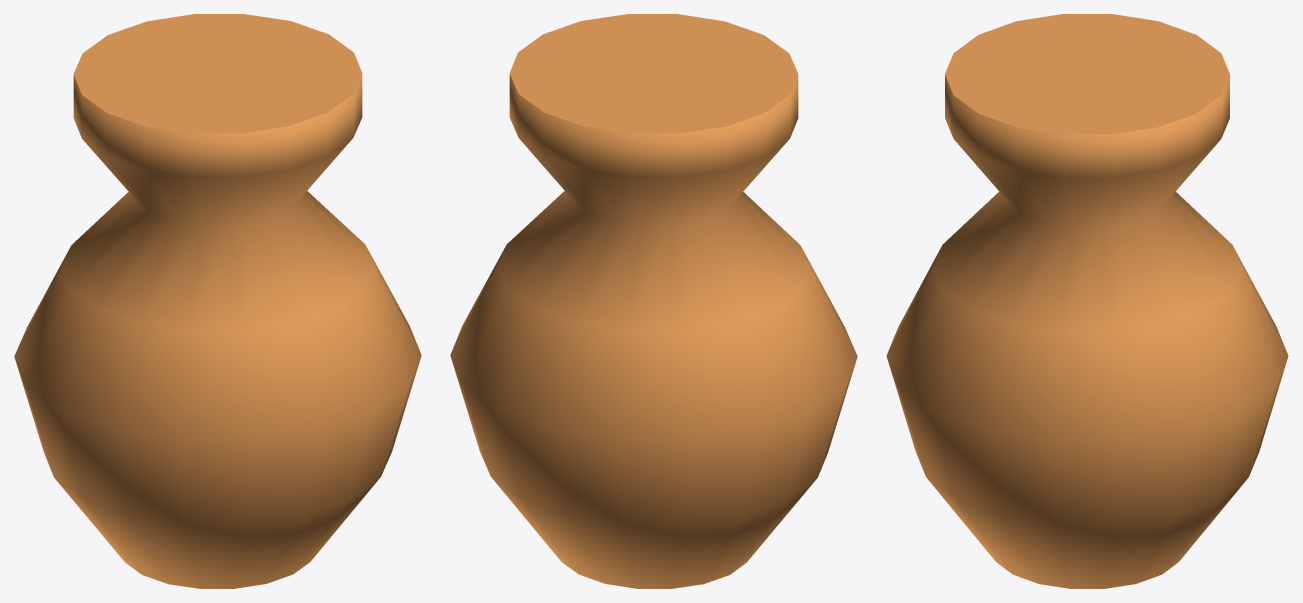
The model's file is Jarro.fbx.
3 renders of one model, left to right at view 1: azimuth 30°, elevation 25°; view 2: azimuth 150°, elevation 25°; view 3: azimuth 270°, elevation 25°, orthographic.
Parts seen in each view (by area): view 1: Jarro.001; view 2: Jarro.001; view 3: Jarro.001.
Part boxes in pixels (bbox=[...]): Jarro.001: bbox=[14, 14, 421, 588]; Jarro.001: bbox=[450, 14, 857, 588]; Jarro.001: bbox=[886, 14, 1288, 588].
Bounding box in the file's own units: 84.61 × 110 × 84.61.
